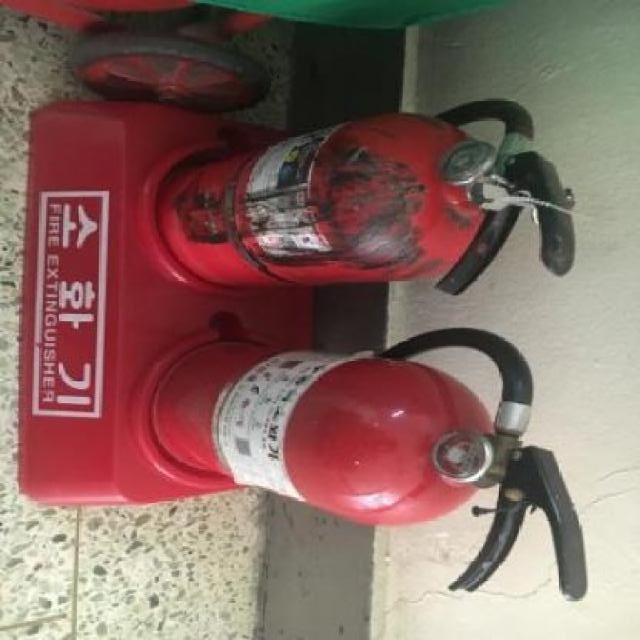fire extinguisher: (150, 327, 587, 602), (158, 99, 578, 298)
